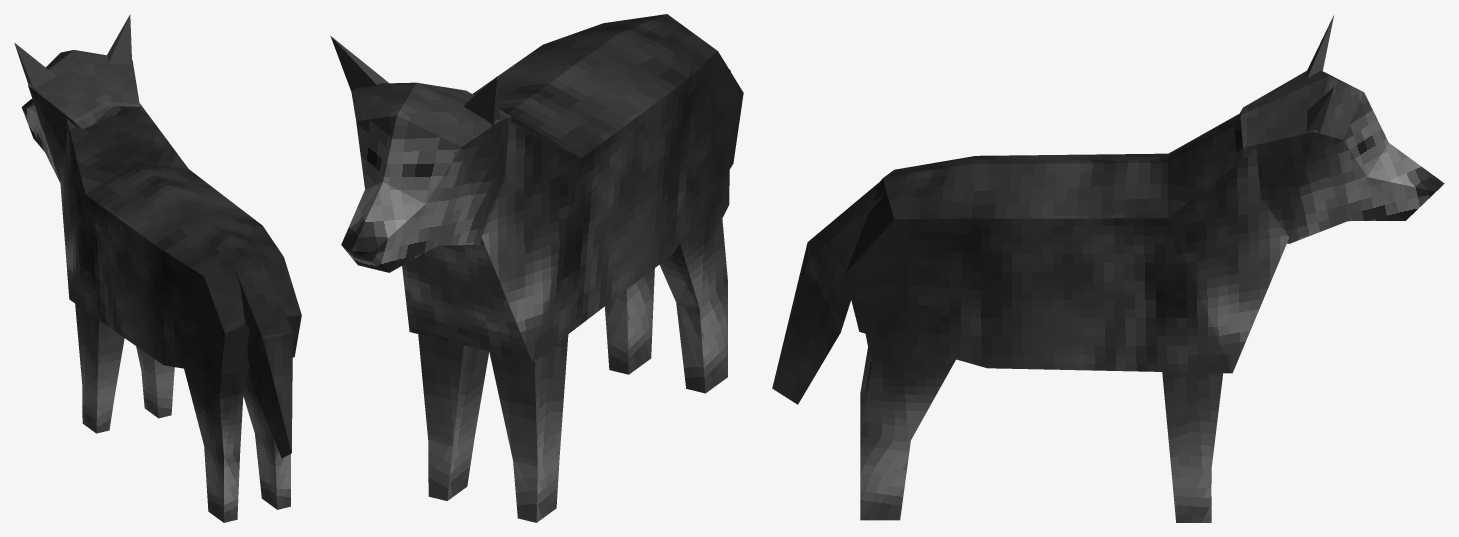
The model's file is Wolf_Wolf_Gray.glb.
3 renders of one model, left to right at view 1: azimuth 30°, elevation 25°; view 2: azimuth 150°, elevation 25°; view 3: azimuth 270°, elevation 25°, orthographic. The views are drawn at different scales.
Parts seen in each view (by area): view 1: Body, Head, Leg3, Leg1, Leg4, Leg2; view 2: Body, Head, Leg1, Leg3, Leg2, Leg4; view 3: Body, Head, Leg4, Leg2.
Boxes of the visible parts, x1=… form: Body: x1=60, y1=103, x2=301, y2=458; Head: x1=14, y1=14, x2=139, y2=182; Leg3: x1=184, y1=368, x2=248, y2=522; Leg1: x1=75, y1=303, x2=124, y2=433; Leg4: x1=243, y1=368, x2=290, y2=509; Leg2: x1=136, y1=346, x2=174, y2=418; Body: x1=402, y1=14, x2=743, y2=361; Head: x1=330, y1=36, x2=511, y2=272; Leg1: x1=489, y1=334, x2=568, y2=522; Leg3: x1=659, y1=178, x2=727, y2=393; Leg2: x1=418, y1=334, x2=489, y2=500; Leg4: x1=605, y1=268, x2=654, y2=374; Body: x1=772, y1=114, x2=1289, y2=404; Head: x1=1234, y1=15, x2=1444, y2=243; Leg4: x1=860, y1=334, x2=955, y2=520; Leg2: x1=1162, y1=372, x2=1222, y2=522.
Size of the model in its own units: 0.3836 by 1.11 by 1.5.
1 material, 1 textured.
